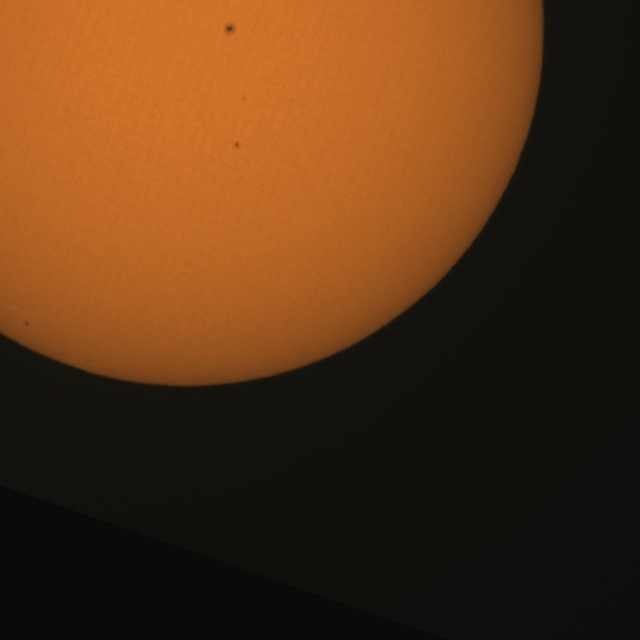sunspot: (223, 21, 238, 37), (233, 140, 241, 150), (22, 320, 31, 328)
